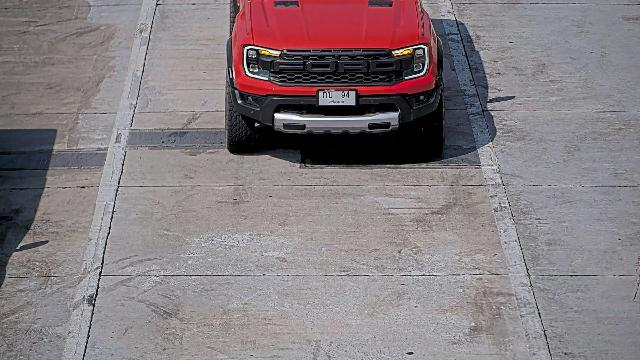pickup-truck: (223, 0, 445, 158)
